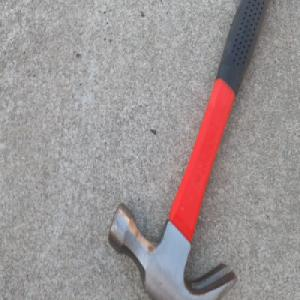Hammer: (107, 0, 271, 300)
